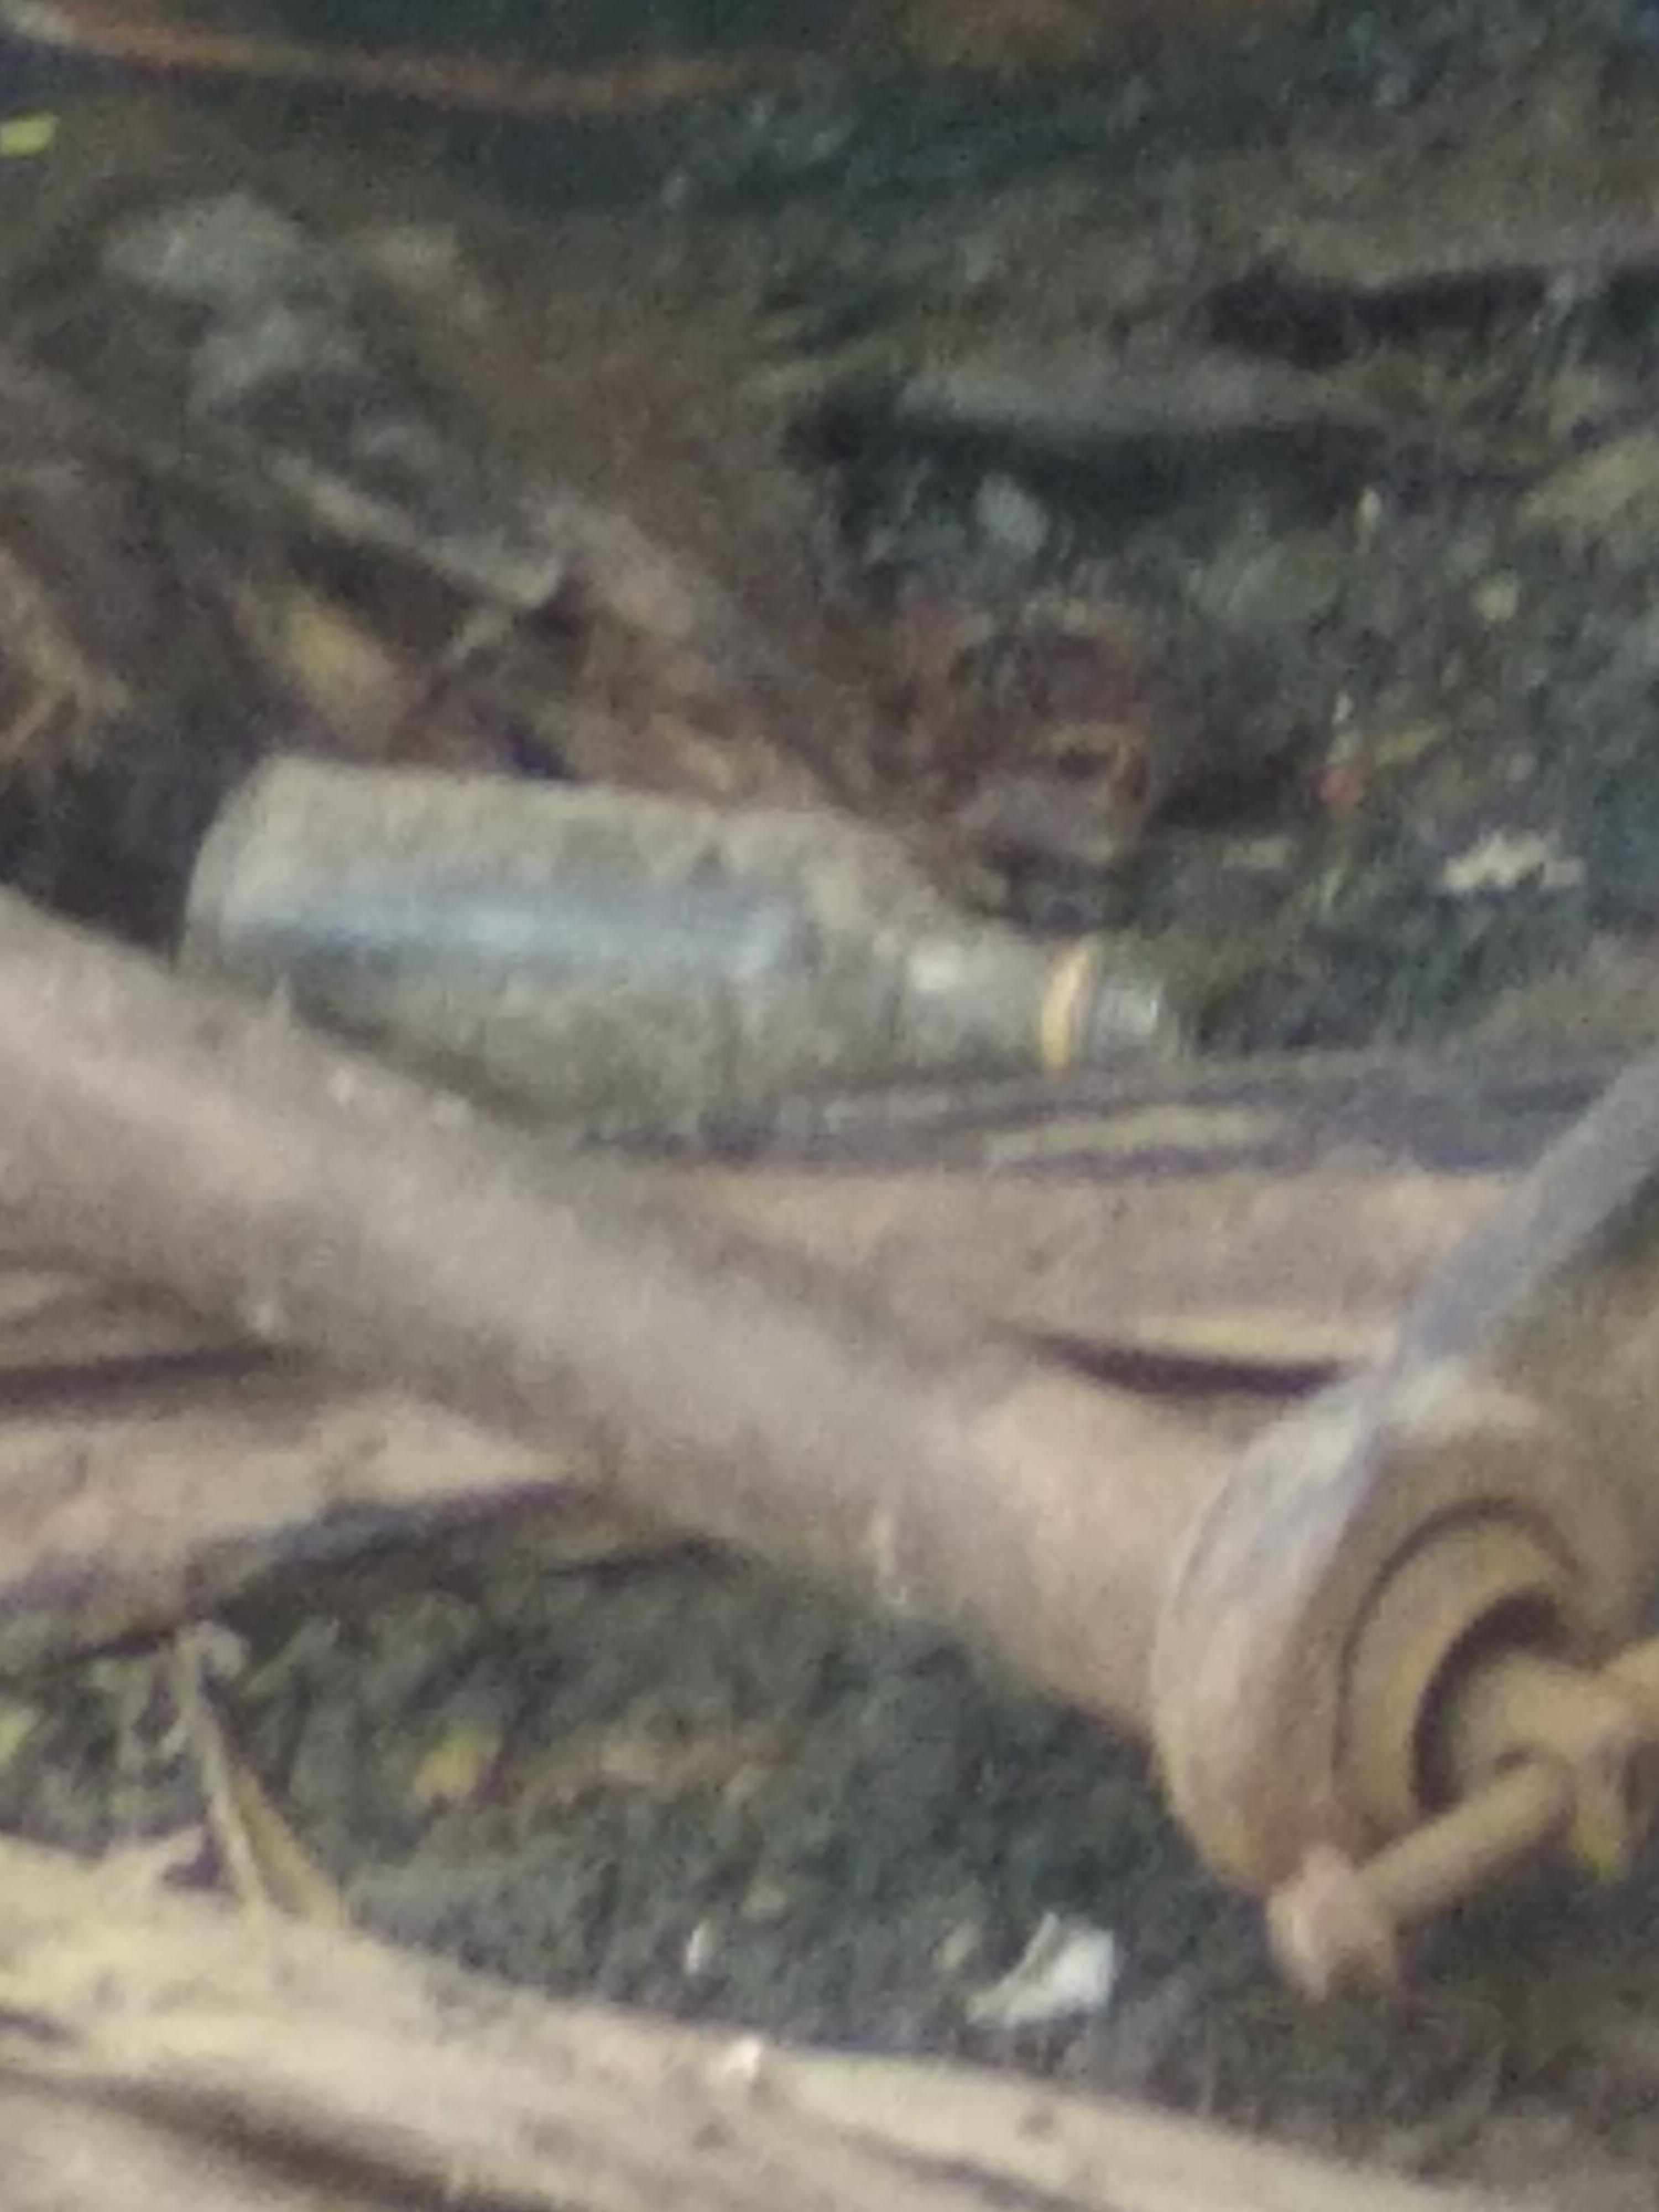organic: (171, 733, 1204, 1200)
